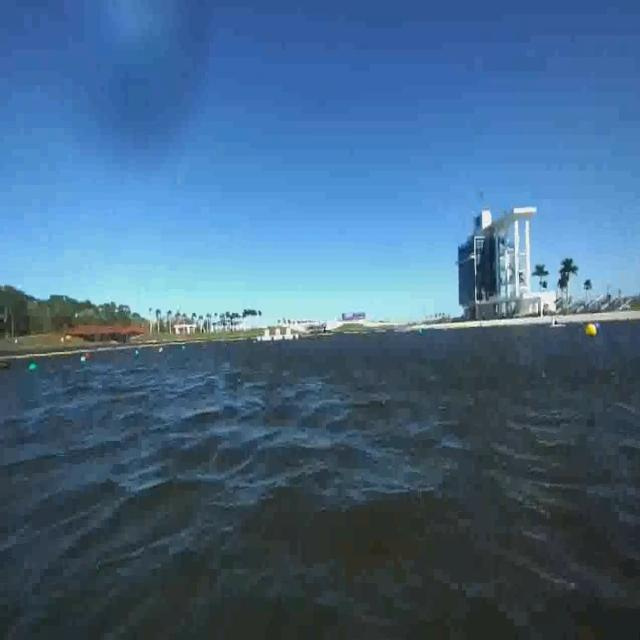yellow-buoy: (587, 321, 598, 338)
